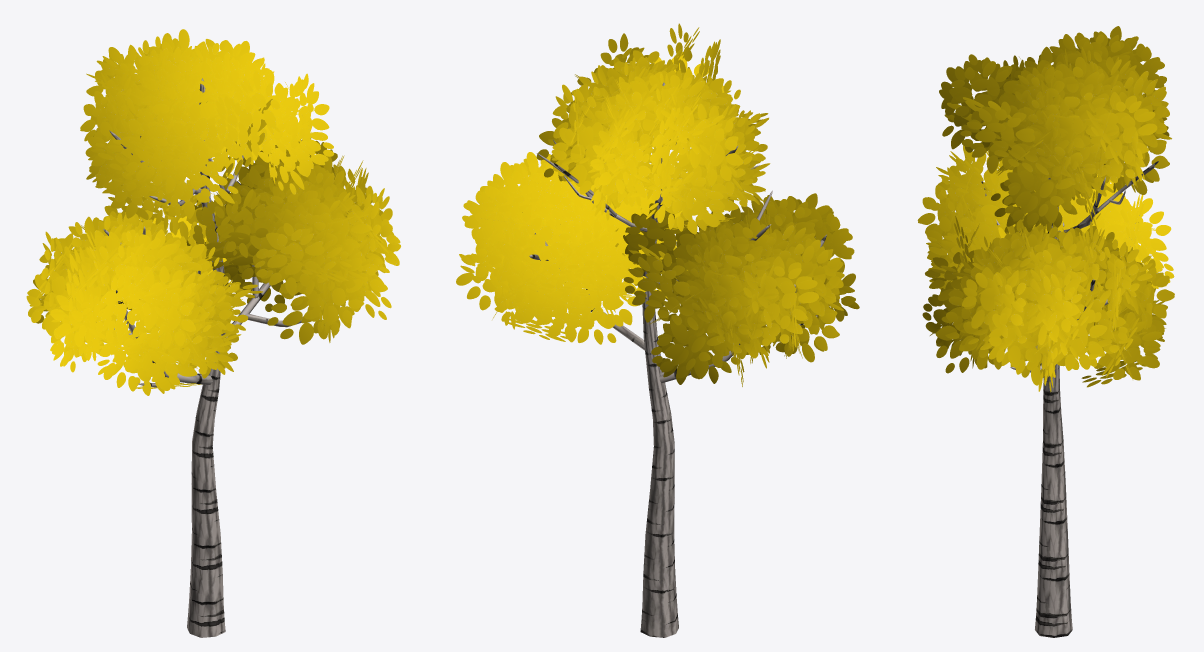
Rendered from birch_2.glb.
3 views of the same model, side by side, from view 1: azimuth 30°, elevation 25°; view 2: azimuth 150°, elevation 25°; view 3: azimuth 270°, elevation 25° (orthographic).
Visible parts, largest first — view 1: BirchTree_4; view 2: BirchTree_4; view 3: BirchTree_4.
Part boxes in pixels (x1,y1,x2,y2): BirchTree_4: (26,29,400,637); BirchTree_4: (456,23,859,637); BirchTree_4: (917,26,1174,637).
Bounding box in the file's own units: 2.78 × 4.21 × 1.84.
2 materials, 2 textured.
